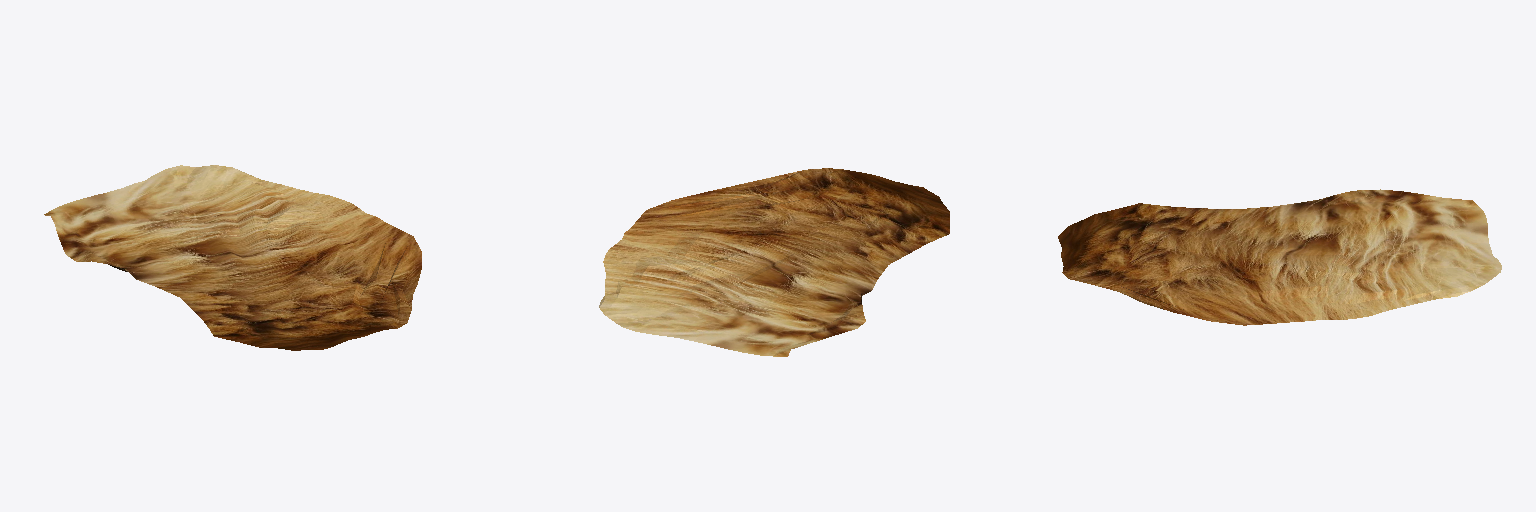
3 renders of one model, left to right at view 1: azimuth 30°, elevation 25°; view 2: azimuth 150°, elevation 25°; view 3: azimuth 270°, elevation 25°, orthographic.
Visible parts, largest first — view 1: carpet_lion; view 2: carpet_lion; view 3: carpet_lion.
Part boxes in pixels (left/top/right/bottom): carpet_lion: left=44, top=165, right=421, bottom=350; carpet_lion: left=599, top=168, right=949, bottom=356; carpet_lion: left=1058, top=189, right=1501, bottom=325.
Size of the model in its own units: 2.86 by 0.0385 by 3.94.
1 materials, 1 textured.